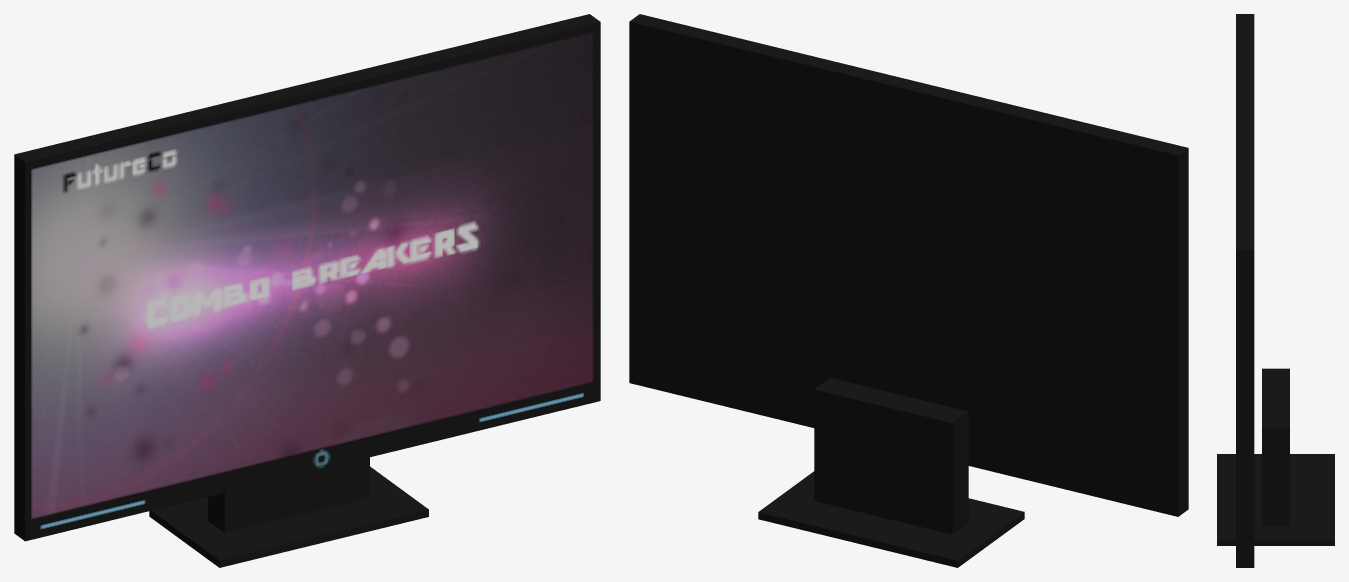
3 renders of one model, left to right at view 1: azimuth 30°, elevation 25°; view 2: azimuth 150°, elevation 25°; view 3: azimuth 270°, elevation 25°, orthographic. The views are drawn at different scales.
Parts seen in each view (by area): view 1: TV; view 2: TV; view 3: TV.
Boxes of the visible parts, x1,y1,x2,y2 form: TV: [14, 14, 600, 567]; TV: [629, 14, 1188, 567]; TV: [1217, 14, 1334, 567].
Bounding box in the file's own units: 89.12 × 65.41 × 18.82.
